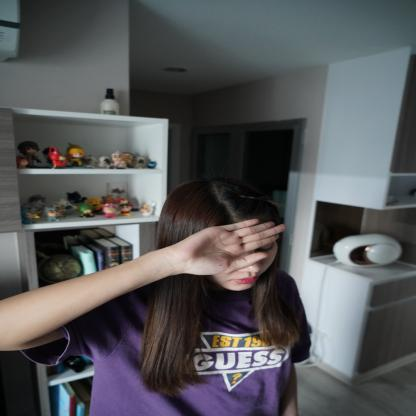Sick: (150, 214, 293, 281)
